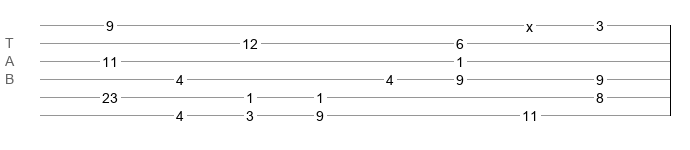1: (246, 90, 254, 100), (316, 90, 324, 100), (456, 54, 464, 64)
11: (102, 54, 118, 64), (522, 108, 538, 118)
12: (242, 36, 258, 46)
23: (102, 90, 118, 100)
3: (246, 108, 254, 118), (596, 18, 604, 28)
4: (176, 108, 184, 118), (176, 72, 184, 82), (386, 72, 394, 82)
6: (456, 36, 464, 46)
8: (596, 90, 604, 100)
9: (106, 18, 114, 28), (316, 108, 324, 118), (456, 72, 464, 82), (596, 72, 604, 82)
x: (526, 19, 533, 27)
